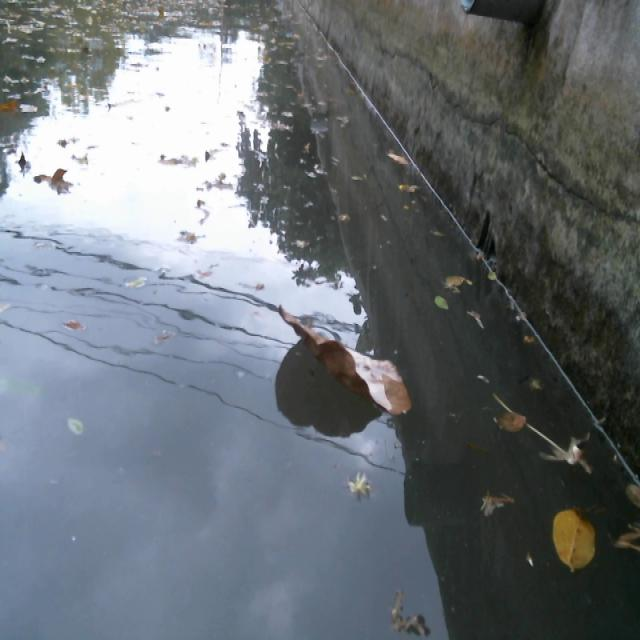Big-leaf: (273, 301, 414, 421)
Small-leaf: (548, 502, 598, 573), (477, 481, 516, 522), (489, 401, 532, 437), (32, 162, 75, 196), (610, 512, 640, 559), (64, 412, 89, 441), (442, 270, 471, 293), (622, 475, 640, 512), (121, 273, 152, 293), (178, 224, 207, 244), (14, 150, 35, 176), (385, 148, 410, 169), (396, 178, 422, 197), (432, 289, 452, 313), (58, 318, 88, 334), (0, 95, 21, 116)
